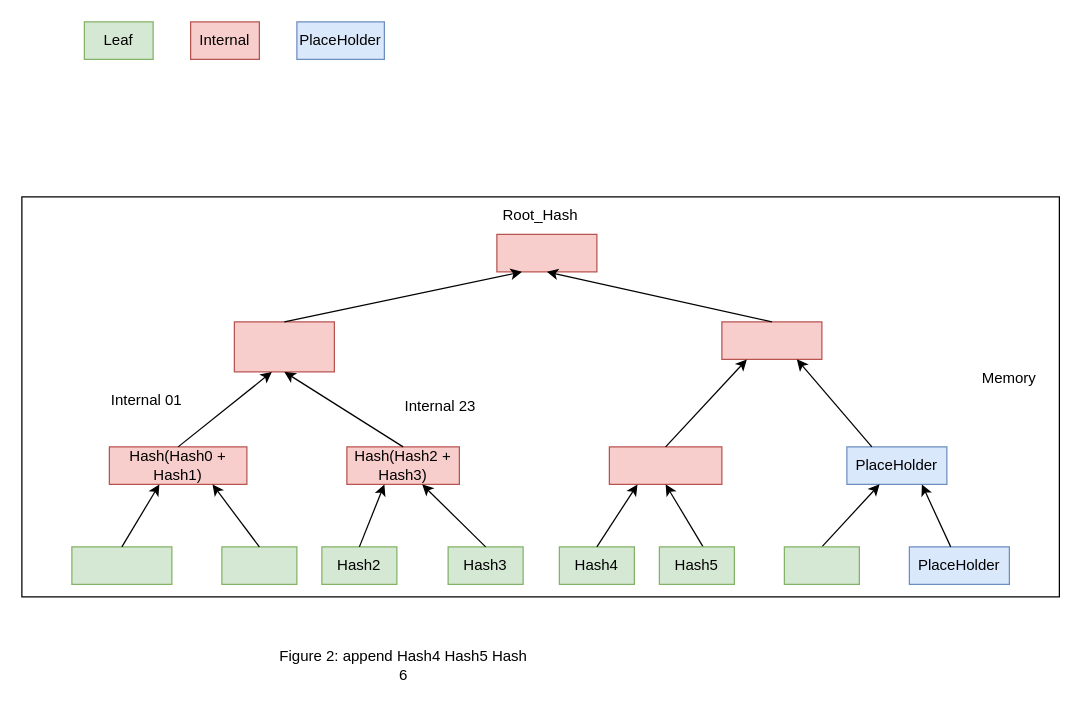
Some shapes in this 1081 by 706 pixel diagram are drawn without their labels. Here are the shapes that lost their labels. From the top down, the box of each, then its label:
(233, 321, 334, 372): Hash(Hash01 + Hash23)
(608, 446, 722, 484): Hash(Hash4 + Hash5)
(71, 546, 172, 584): Hash0
(221, 546, 297, 584): Hash1
(783, 546, 859, 584): Hash6
